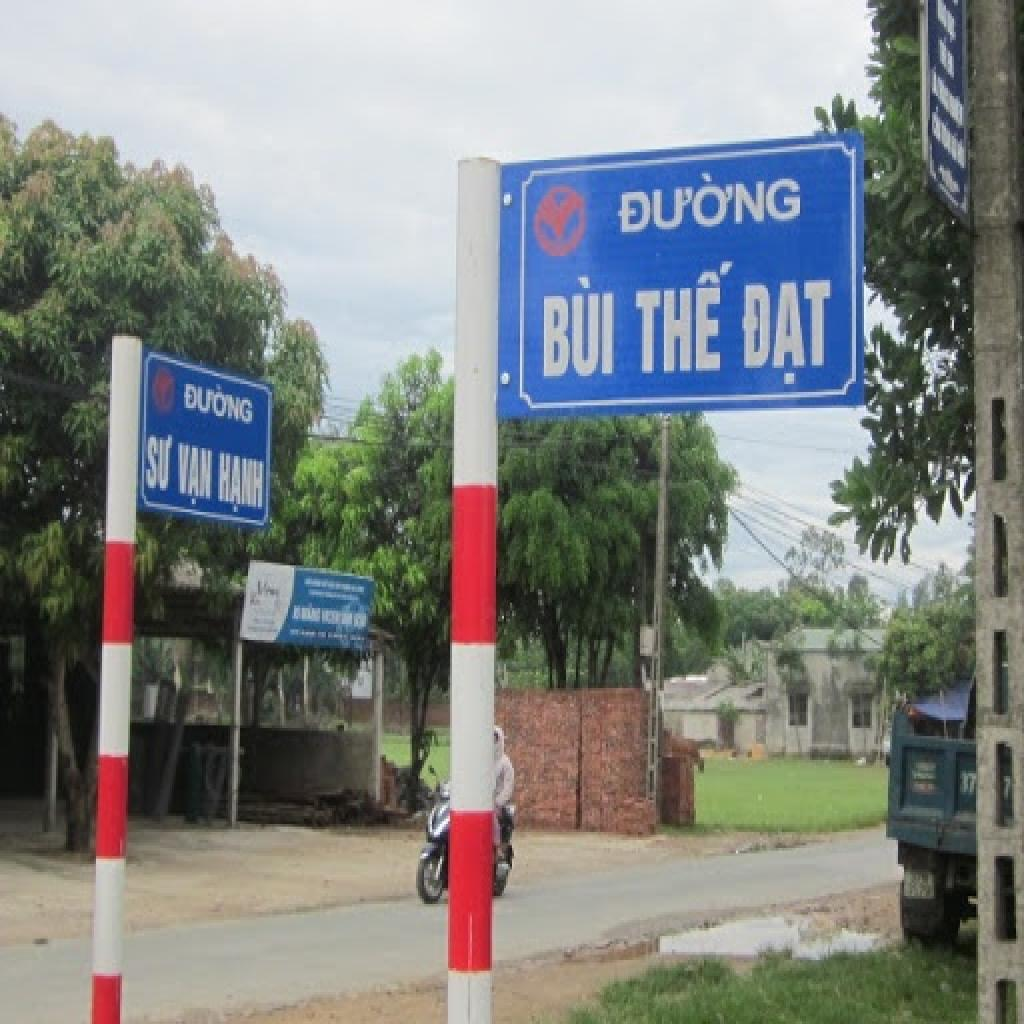text: (614, 165, 804, 240), (632, 259, 738, 381), (740, 275, 836, 392), (540, 272, 618, 384), (180, 376, 256, 429), (216, 448, 268, 520), (176, 440, 216, 512), (144, 432, 176, 496), (958, 768, 980, 800), (1002, 774, 1014, 806)
